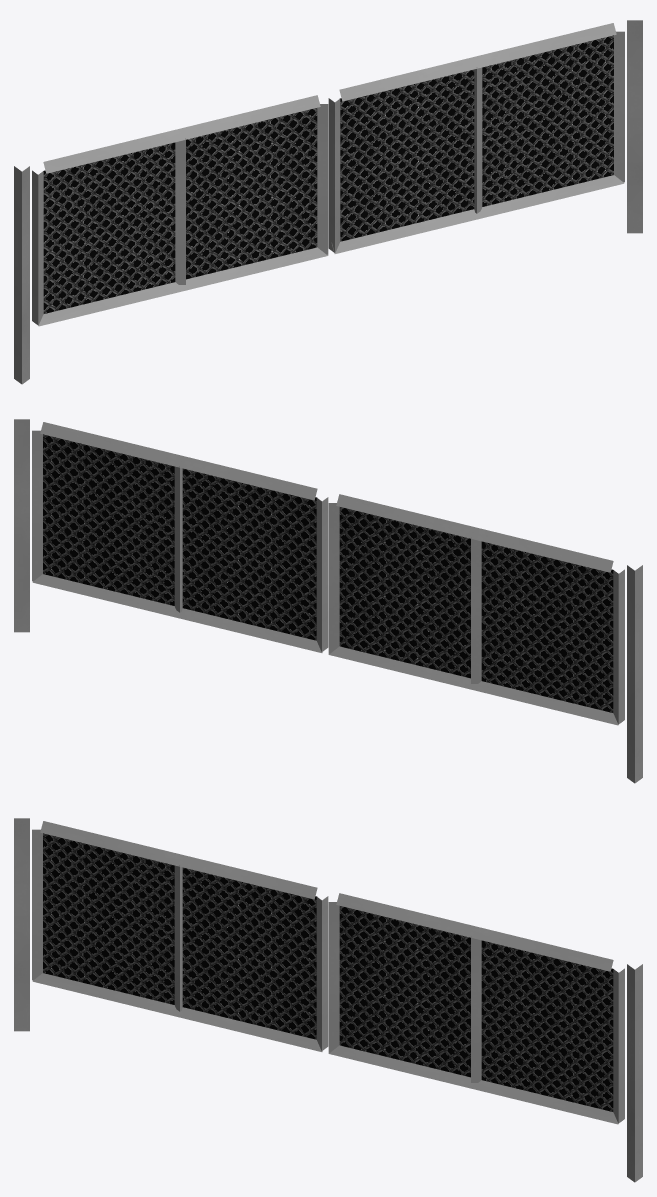
Rendered from fence-chainlink-gateX2-2m-cbj_LOD02.gltf.
3 views of the same model, one above another, from view 1: azimuth 30°, elevation 25°; view 2: azimuth 150°, elevation 25°; view 3: azimuth 330°, elevation 25° (orthographic).
Parts seen in each view (by area): view 1: chainlink02; view 2: chainlink02; view 3: chainlink02.
Part boxes in pixels (left/top/right/bottom): chainlink02: left=14, top=20, right=642, bottom=384; chainlink02: left=14, top=419, right=642, bottom=783; chainlink02: left=14, top=818, right=642, bottom=1182.
Size of what is drawn, in the model's own units: 4.06 by 1.33 by 0.0915.
